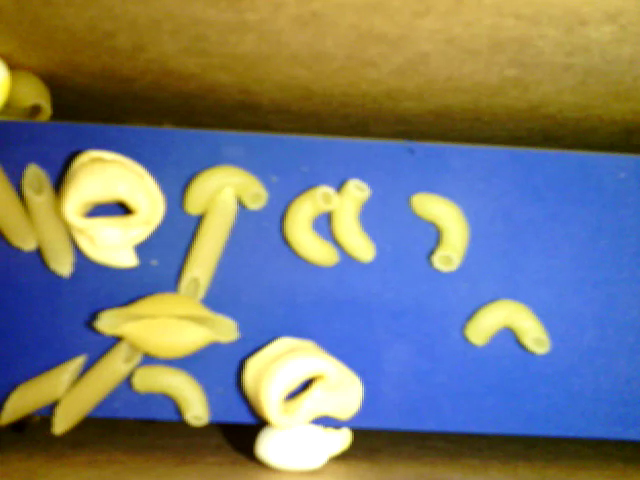elbow: (131, 361, 210, 430), (281, 182, 340, 272), (464, 299, 554, 357), (179, 161, 269, 218), (411, 191, 469, 275), (327, 177, 378, 266)
penne: (52, 338, 140, 438), (174, 185, 241, 301), (22, 159, 76, 282), (3, 354, 86, 424), (1, 168, 39, 249)
shell: (87, 292, 240, 358), (3, 68, 54, 120)
tortellini: (57, 148, 169, 269), (240, 335, 366, 426)
